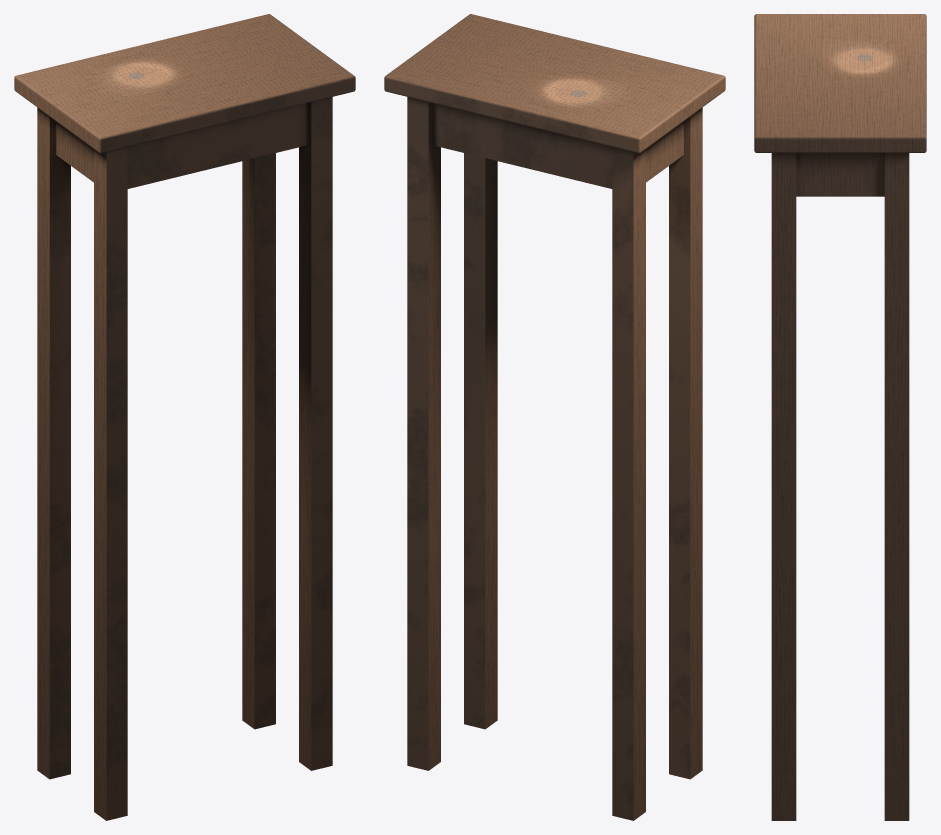
The model's file is 411_hook.glb.
3 renders of one model, left to right at view 1: azimuth 30°, elevation 25°; view 2: azimuth 150°, elevation 25°; view 3: azimuth 270°, elevation 25°, orthographic.
Parts seen in each view (by area): view 1: Table; view 2: Table; view 3: Table.
Boxes of the visible parts, x1,y1,x2,y2 form: Table: (14, 14, 355, 820); Table: (384, 14, 725, 820); Table: (754, 14, 926, 820).
Size of what is drawn, in the model's own units: 1.2 by 3.1 by 0.7.
Materials: 1 (1 with a texture image).
